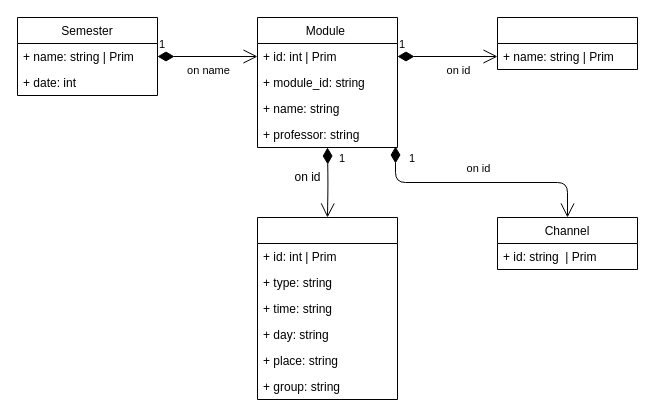
Image size: 655x420. Some labels were removed from this diagram. Here are the shapes that lost their labels. From the top down, the box of each, then its label:
(496, 16, 638, 70): Lecturer
(256, 216, 398, 400): Lecture
